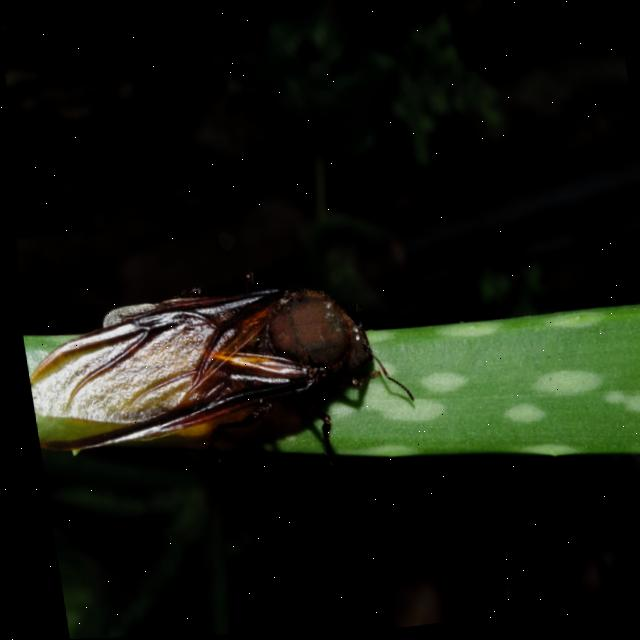Alive-Female-Alate: (14, 254, 416, 490)
